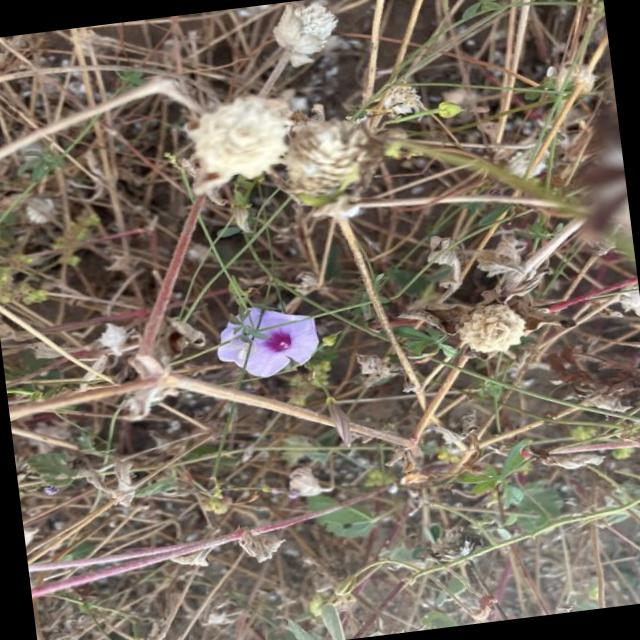ipomoea: (176, 86, 303, 192), (206, 294, 326, 386), (263, 0, 346, 72), (448, 294, 532, 362)
